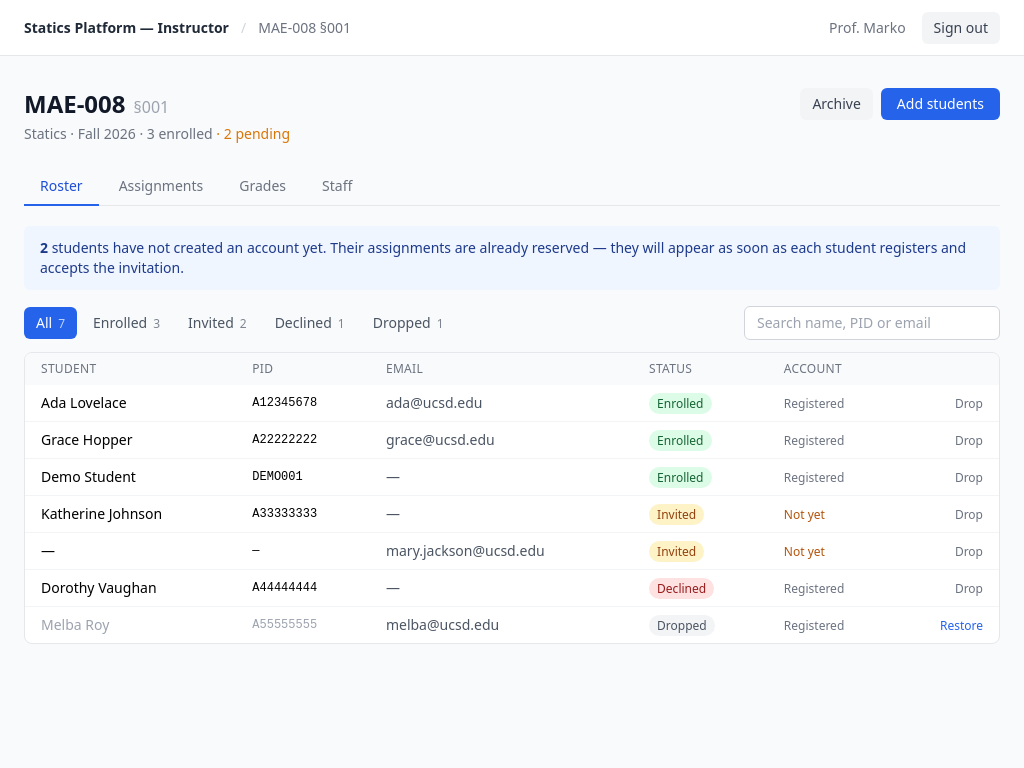
Test: course roster › filters by status
The width and height of the screenshot is (1024, 768).
Click the button "Invited2" at (217,323), box 176,307 -> 259,339
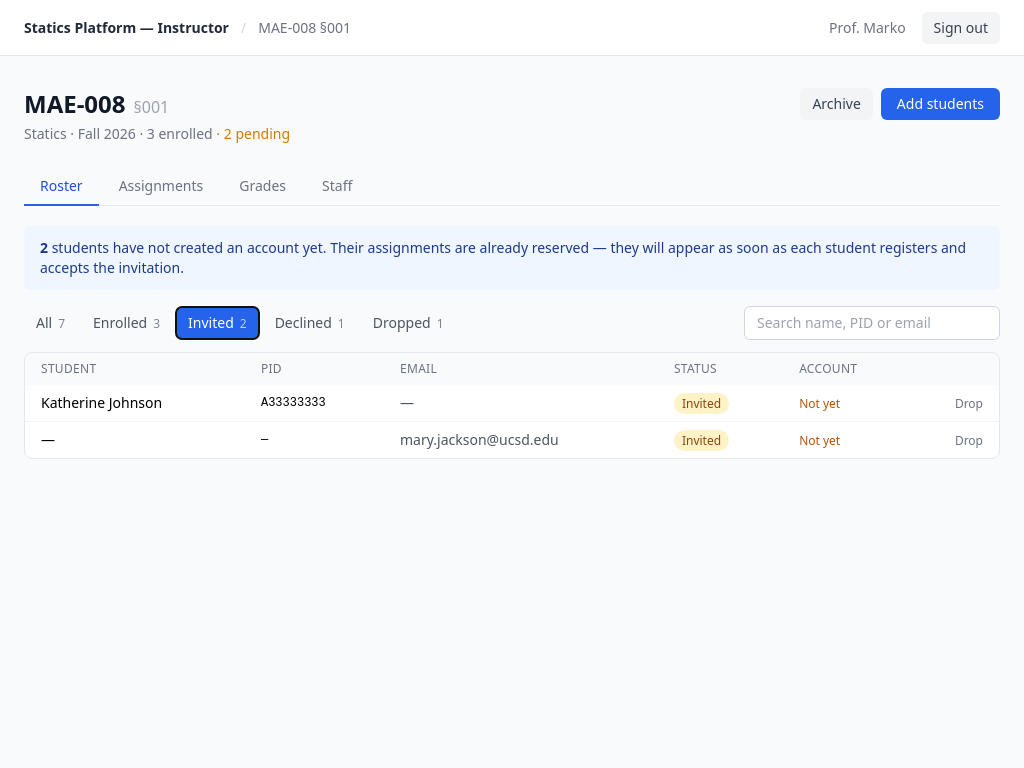
Expected: the text "Katherine Johnson" is shown, 25,385 -> 245,422
Now the text "Ada Lovelace" is gone
